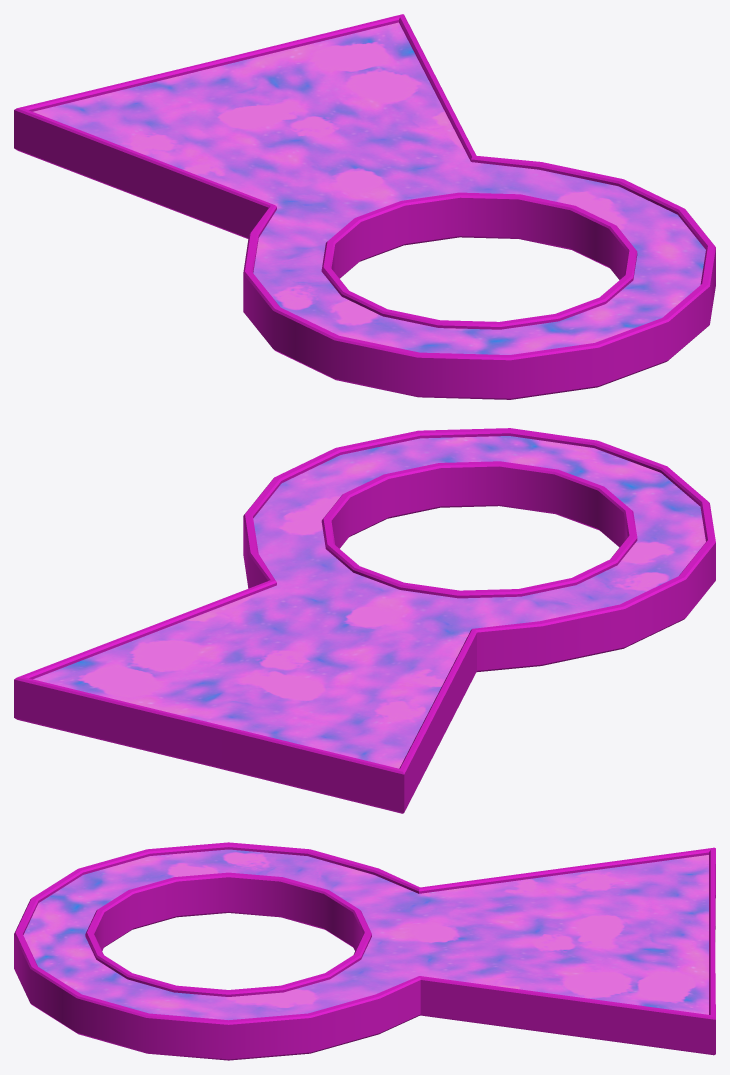
Rendered from PLF0110049.fbx.
The picture shows the model from 3 angles, top to bottom: view 1: azimuth 30°, elevation 25°; view 2: azimuth 150°, elevation 25°; view 3: azimuth 270°, elevation 25°; orthographic projection. The views are drawn at different scales.
Parts seen in each view (by area): view 1: smPLF0110049; view 2: smPLF0110049; view 3: smPLF0110049.
Boxes of the visible parts, x1,y1,x2,y2 form: smPLF0110049: (14,14,715,399); smPLF0110049: (14,428,715,813); smPLF0110049: (14,842,715,1060).
Size of the model in its own units: 945 by 92.49 by 1544.
Materials: 1 (1 with a texture image).
